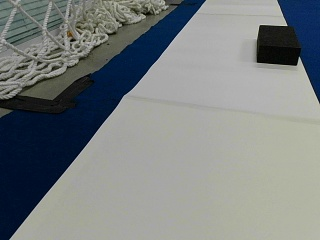block: (256, 25, 299, 65)
